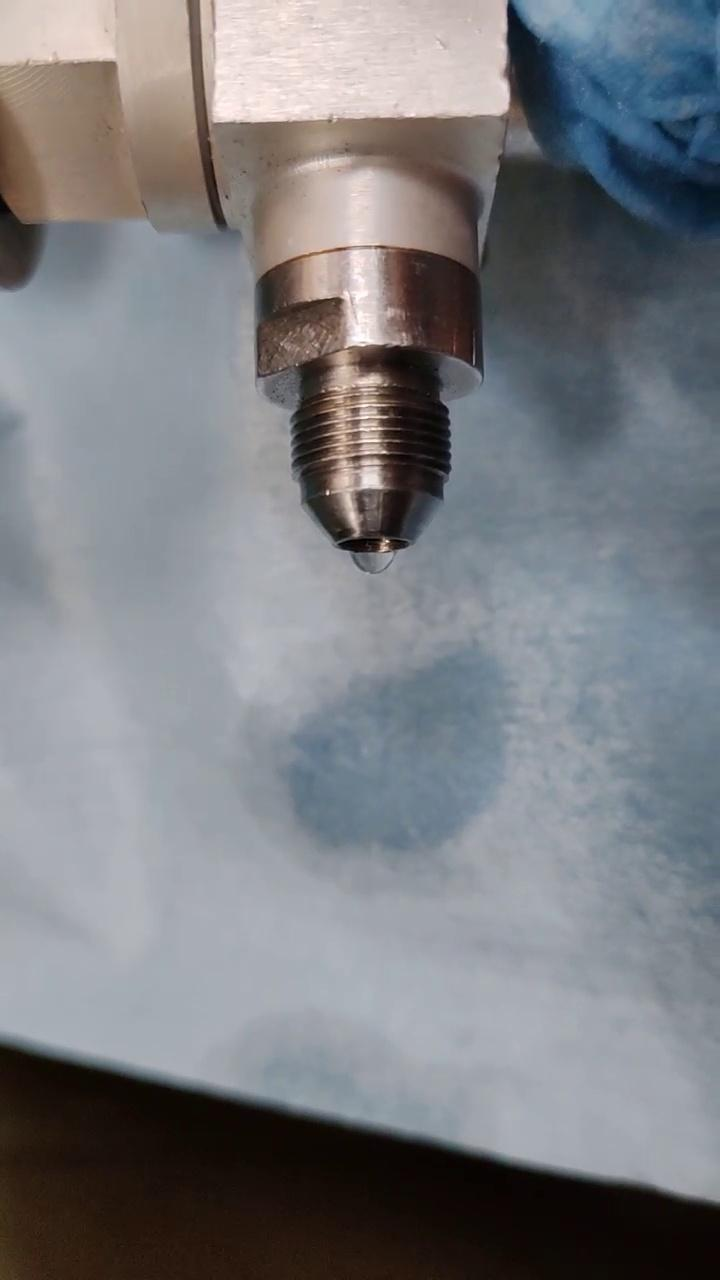water drop: (348, 544, 397, 575)
